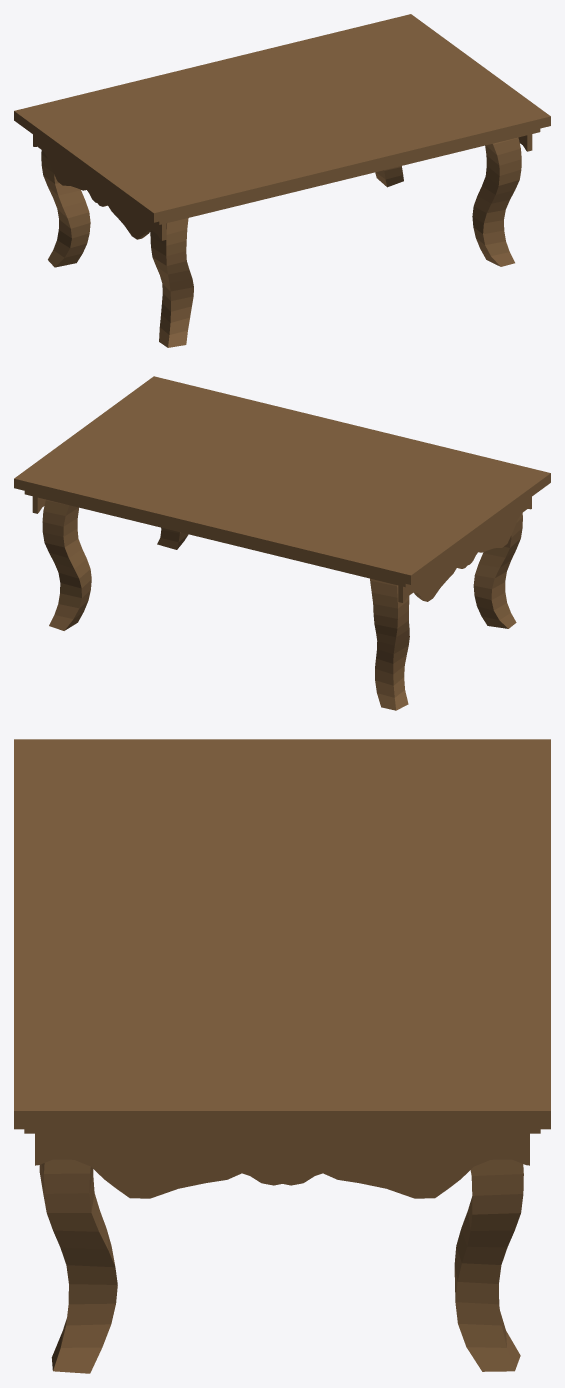
Rendered from ExoticDesk.fbx.
The picture shows the model from 3 angles, top to bottom: view 1: azimuth 30°, elevation 25°; view 2: azimuth 150°, elevation 25°; view 3: azimuth 270°, elevation 25°; orthographic projection. The views are drawn at different scales.
Visible parts, largest first — view 1: 立方体.001; view 2: 立方体.001; view 3: 立方体.001.
Part boxes in pixels (left/top/right/bottom): 立方体.001: left=14, top=14, right=550, bottom=347; 立方体.001: left=14, top=376, right=550, bottom=710; 立方体.001: left=14, top=739, right=550, bottom=1373.
Bounding box in the file's own units: 328 × 117 × 200.
